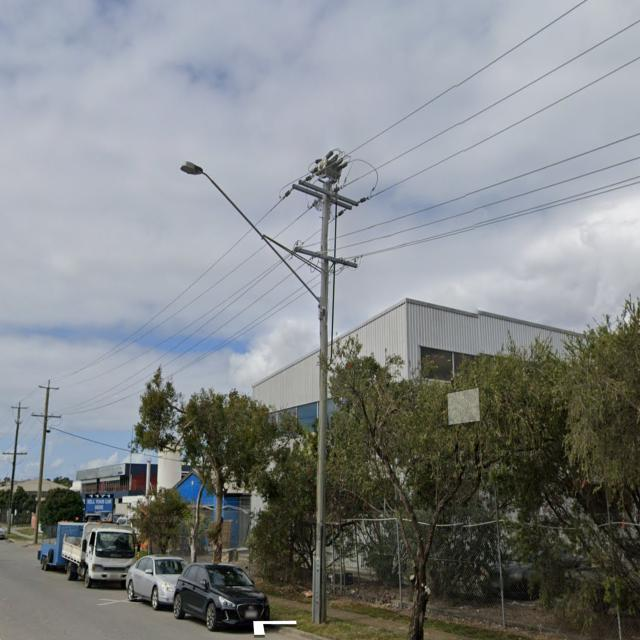HV-switch: (314, 150, 349, 188)
HV-transmission: (283, 159, 366, 217), (1, 399, 30, 458), (31, 377, 61, 421)
crossarm: (292, 179, 358, 210), (294, 245, 359, 272), (40, 379, 60, 390), (32, 413, 62, 419), (2, 450, 28, 456), (11, 401, 27, 410)
streetlight: (181, 160, 321, 305)
timber-pole: (314, 179, 332, 624), (34, 386, 50, 546), (6, 406, 22, 534)
